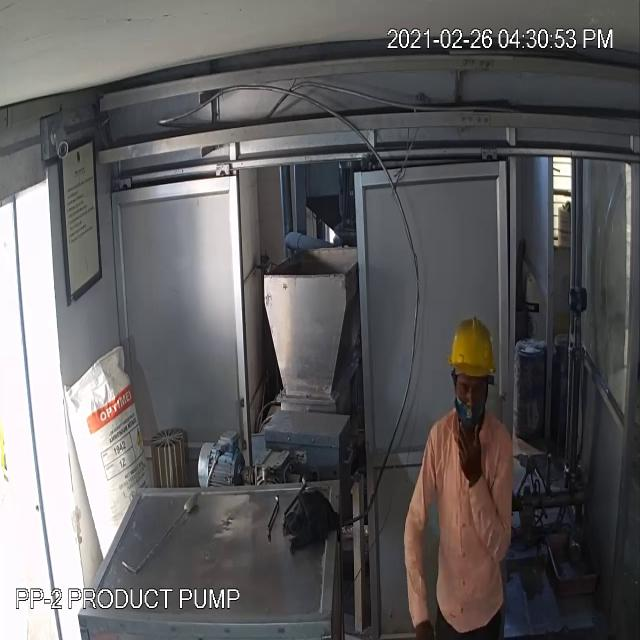Hardhat: (448, 318, 495, 378)
Mask: (455, 397, 485, 429)
No Glove: (459, 427, 481, 484)
